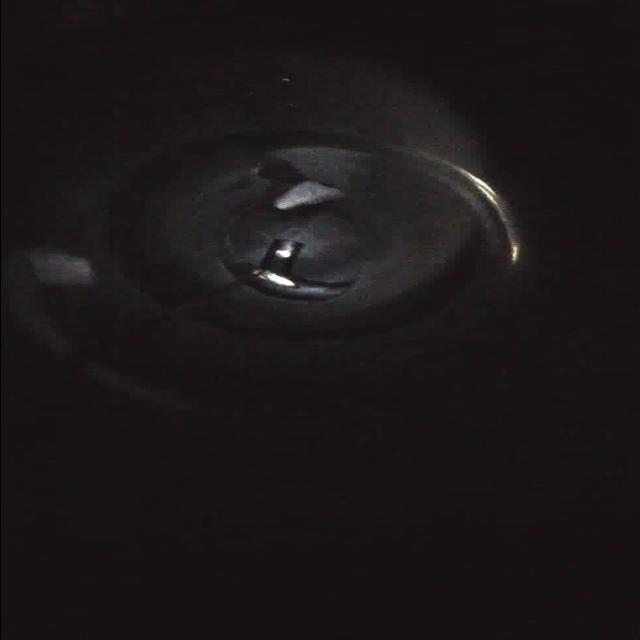impurity: (266, 174, 357, 218)
